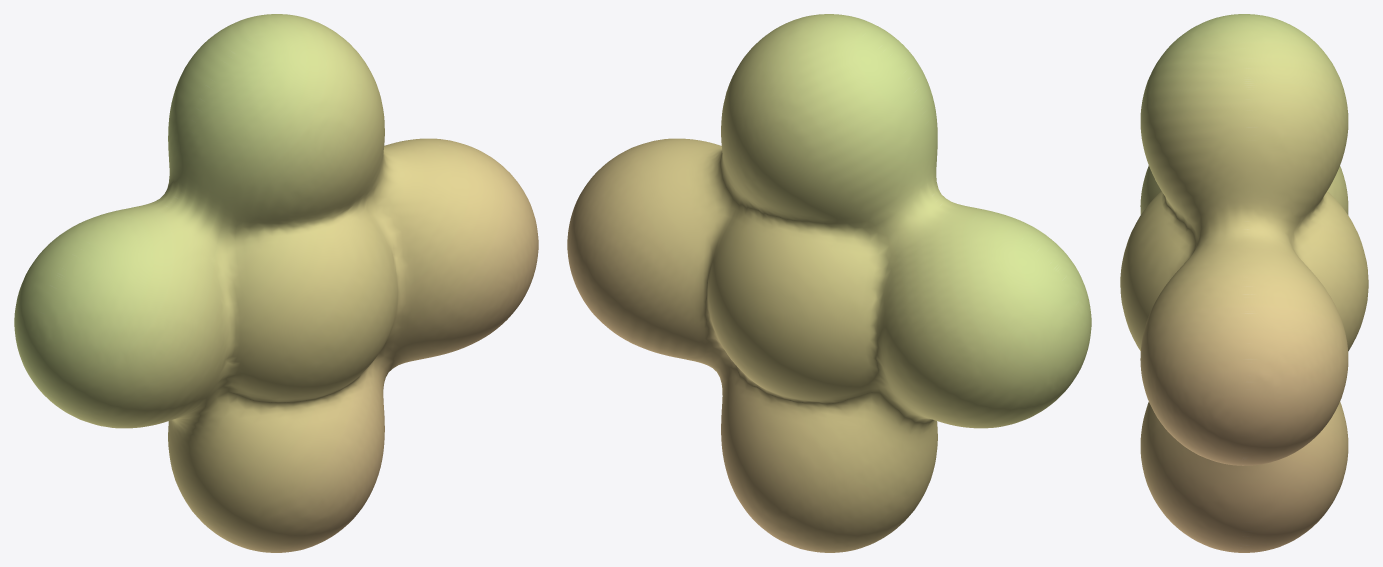
File: 06_cello_static.glb
3 views of the same model, side by side, from view 1: azimuth 30°, elevation 25°; view 2: azimuth 150°, elevation 25°; view 3: azimuth 270°, elevation 25° (orthographic).
Visible parts, largest first — view 1: Volume Mesher.1_remesh; view 2: Volume Mesher.1_remesh; view 3: Volume Mesher.1_remesh.
Part boxes in pixels (x1,y1,x2,y2): Volume Mesher.1_remesh: (14, 14, 538, 552); Volume Mesher.1_remesh: (567, 14, 1091, 552); Volume Mesher.1_remesh: (1120, 14, 1368, 552).
Size of the model in its own units: 0.1305 by 0.1305 by 0.0565.
Materials: 1 (1 with a texture image).
